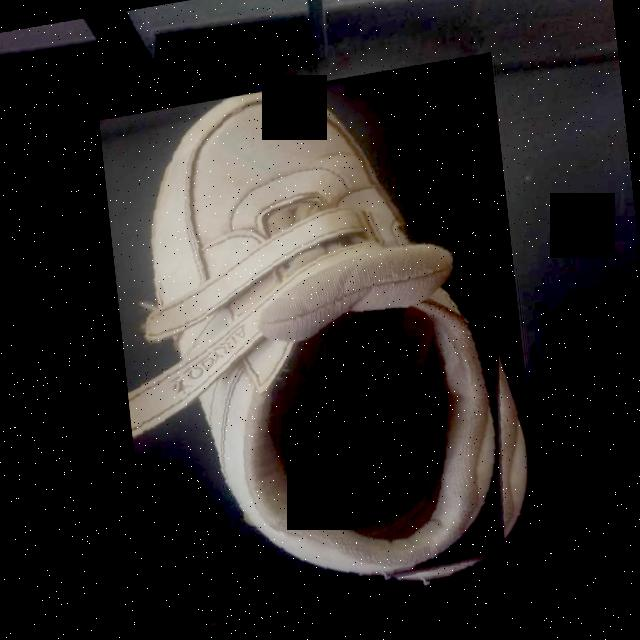shoe: (99, 56, 545, 635)
